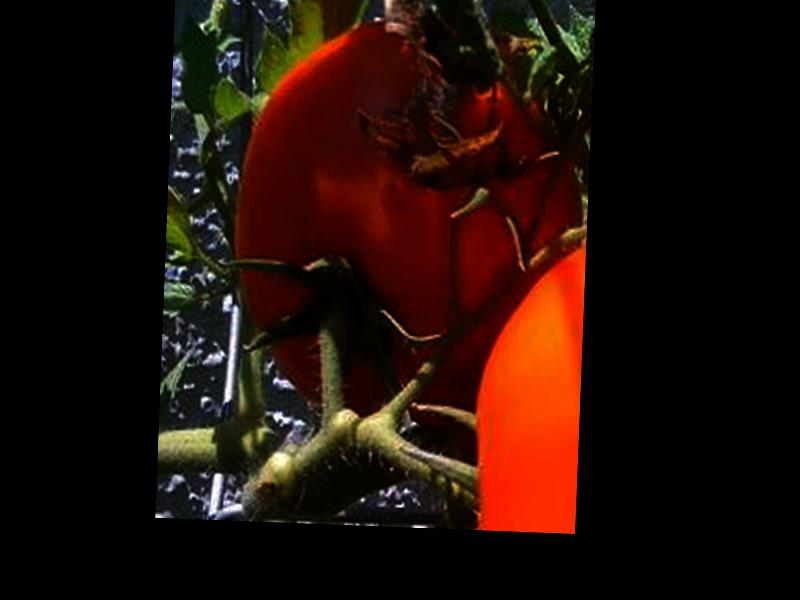Tomato: (226, 11, 583, 427)
